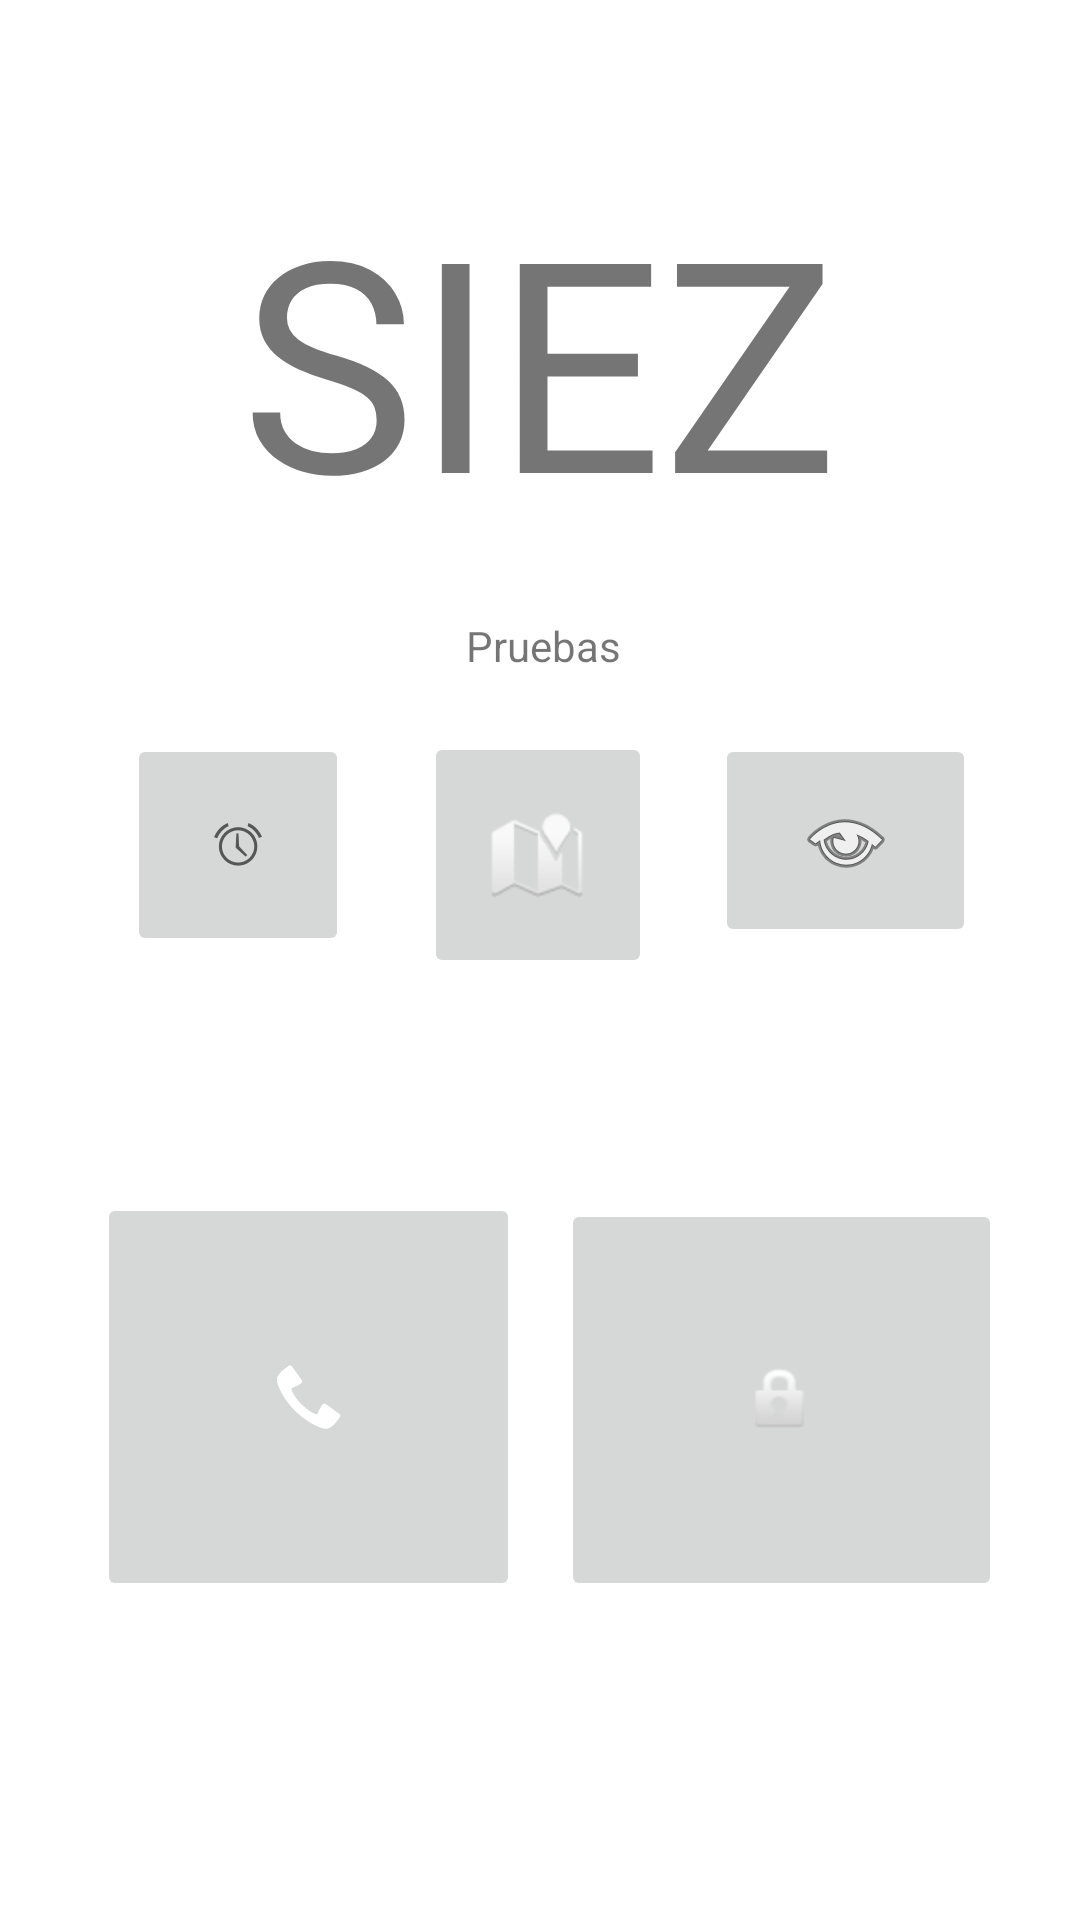

Locate icon controls on the screen. Image size 1080px×1920px, boxes as [x1, y1, x2, y2].
lock idle alarm: [139, 752, 337, 938]
map: [436, 750, 640, 960]
view: [727, 752, 964, 929]
